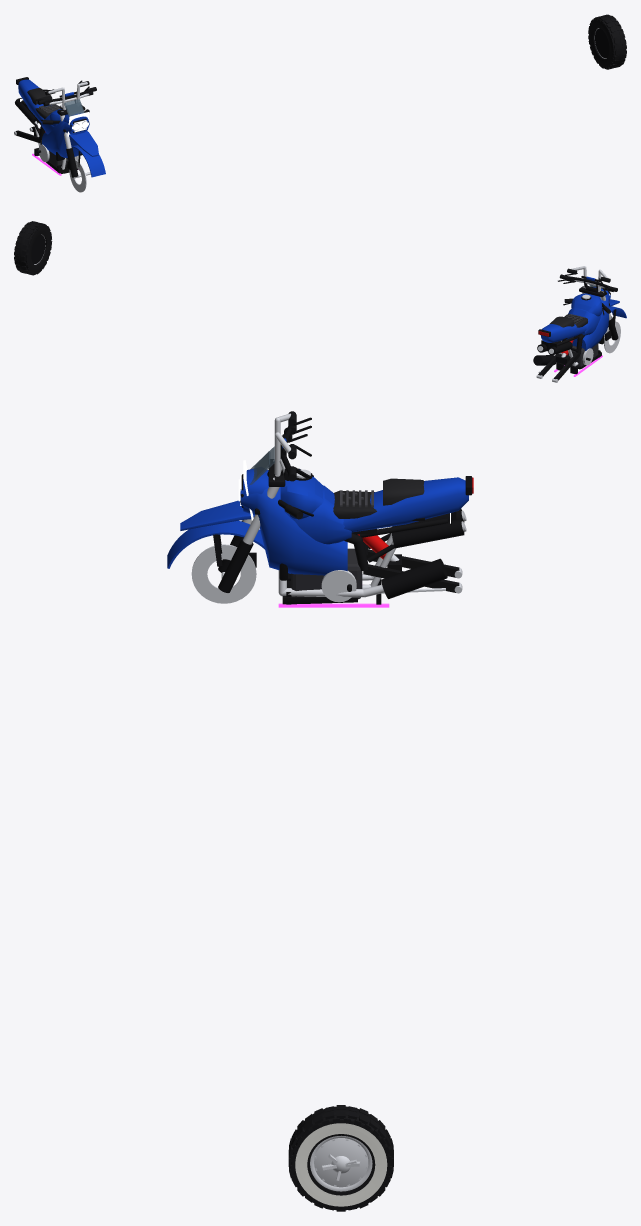
Rendered from SportBike.glb.
3 views of the same model, one above another, from view 1: azimuth 30°, elevation 25°; view 2: azimuth 150°, elevation 25°; view 3: azimuth 270°, elevation 25° (orthographic). The views are drawn at different scales.
Visible parts, largest first — view 1: SportBikeWheel_TireOffroadRubber, SportBike_OptFairingRaceBody, SportBike_Chrome, SportBikeWheel_TireBalloonRubber, SportBike_Body, SportBike_OptFenderHighBody, SportBike_Frame, SportBike_OptFenderLowBody, SportBike_OptSeatsDiamondSeat, SportBikeWheel_RimDiscDark, SportBike_Dark; view 2: SportBikeWheel_TireOffroadRubber, SportBike_Frame, SportBike_Body, SportBike_OptFairingRaceBody, SportBike_Chrome, SportBikeWheel_TireBalloonRubber, SportBike_Dark, SportBike_PanelSideR, SportBikeWheel_RimDiscDark, SportBike_OptSeatsDiamondSeat, SportBike_PanelHood, SportBike_OptExhaustDualDark; view 3: SportBike_OptFairingRaceBody, SportBike_Chrome, SportBike_Body, SportBikeWheel_TireOffroadRubber, SportBike_Frame, SportBike_PanelSideL, SportBikeWheel_RimDiscSpokes, SportBike_OptSeatsDiamondSeat, SportBikeWheel_BandBalloonDoubleBand, SportBike_OptExhaustSideDark, SportBike_OptExhaustDualDark, SportBike_Dark (+3 smaller).
Part boxes in pixels (x1,y1,x2,y2): SportBikeWheel_TireOffroadRubber: (588,14,626,69); SportBike_OptFairingRaceBody: (42,114,89,158); SportBike_Chrome: (14,111,90,192); SportBikeWheel_TireBalloonRubber: (589,16,626,67); SportBike_Body: (18,79,66,122); SportBike_OptFenderHighBody: (69,131,98,156); SportBike_Frame: (15,100,85,143); SportBike_OptFenderLowBody: (71,145,105,177); SportBike_OptSeatsDiamondSeat: (27,88,58,119); SportBikeWheel_RimDiscDark: (595,28,609,58); SportBike_Dark: (19,98,82,177); SportBikeWheel_TireOffroadRubber: (14,221,52,275); SportBike_Frame: (538,286,609,380); SportBike_Body: (540,303,591,342); SportBike_OptFairingRaceBody: (572,295,610,350); SportBike_Chrome: (536,287,620,382); SportBikeWheel_TireBalloonRubber: (14,222,51,273); SportBike_Dark: (541,286,618,360); SportBike_PanelSideR: (584,297,602,335); SportBikeWheel_RimDiscDark: (31,234,45,263); SportBike_OptSeatsDiamondSeat: (550,314,587,327); SportBike_PanelHood: (572,293,600,313); SportBike_OptExhaustDualDark: (537,341,572,355); SportBike_OptFairingRaceBody: (240,481,347,575); SportBike_Chrome: (191,460,462,603); SportBike_Body: (315,477,468,532); SportBikeWheel_TireOffroadRubber: (288,1105,393,1211); SportBike_Frame: (255,459,459,592); SportBike_PanelSideL: (280,486,351,544); SportBikeWheel_RimDiscSpokes: (314,1138,368,1187); SportBike_OptSeatsDiamondSeat: (333,478,424,518); SportBikeWheel_BandBalloonDoubleBand: (297,1125,384,1204); SportBike_OptExhaustSideDark: (381,558,447,598); SportBike_OptExhaustDualDark: (392,508,464,548); SportBike_Dark: (218,463,456,592).
Size of the model in its own units: 32.04 by 6.61 by 7.31.
